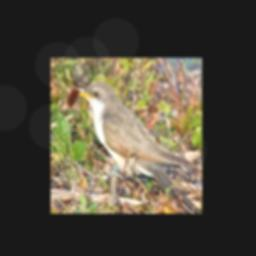Cuckoo: (76, 82, 200, 213)
